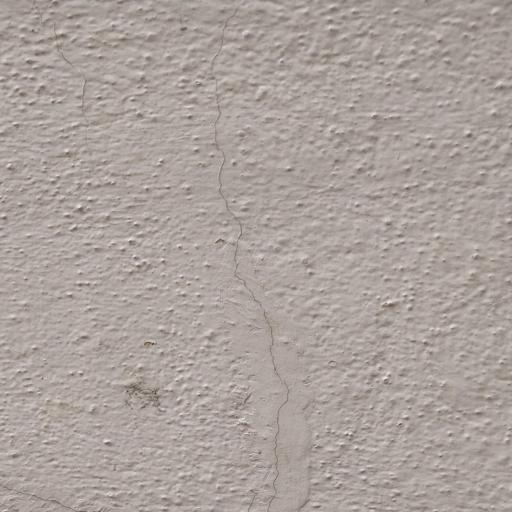minor_crack: (204, 0, 323, 512), (46, 29, 125, 182)
